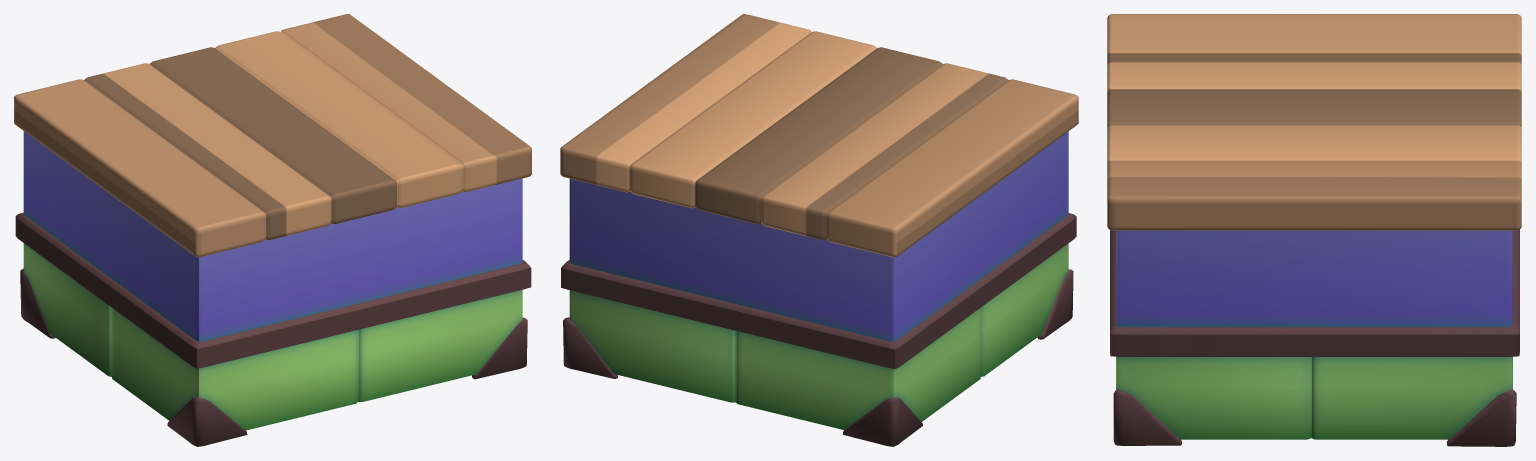
The model's file is HoopsBox.fbx.
3 renders of one model, left to right at view 1: azimuth 30°, elevation 25°; view 2: azimuth 150°, elevation 25°; view 3: azimuth 270°, elevation 25°, orthographic. The views are drawn at different scales.
Visible parts, largest first — view 1: ENV_S02_MovableBox_MO_0, ENV_S02_MovableBox_MO_1; view 2: ENV_S02_MovableBox_MO_0, ENV_S02_MovableBox_MO_1; view 3: ENV_S02_MovableBox_MO_1, ENV_S02_MovableBox_MO_0.
Part boxes in pixels (x1=…): ENV_S02_MovableBox_MO_0: x1=15, y1=131, x2=531, y2=446; ENV_S02_MovableBox_MO_1: x1=14, y1=14, x2=531, y2=257; ENV_S02_MovableBox_MO_0: x1=561, y1=131, x2=1076, y2=446; ENV_S02_MovableBox_MO_1: x1=560, y1=14, x2=1078, y2=257; ENV_S02_MovableBox_MO_1: x1=1107, y1=14, x2=1521, y2=230; ENV_S02_MovableBox_MO_0: x1=1110, y1=229, x2=1519, y2=446.
Bounding box in the file's own units: 12.5 × 7.87 × 11.82.
